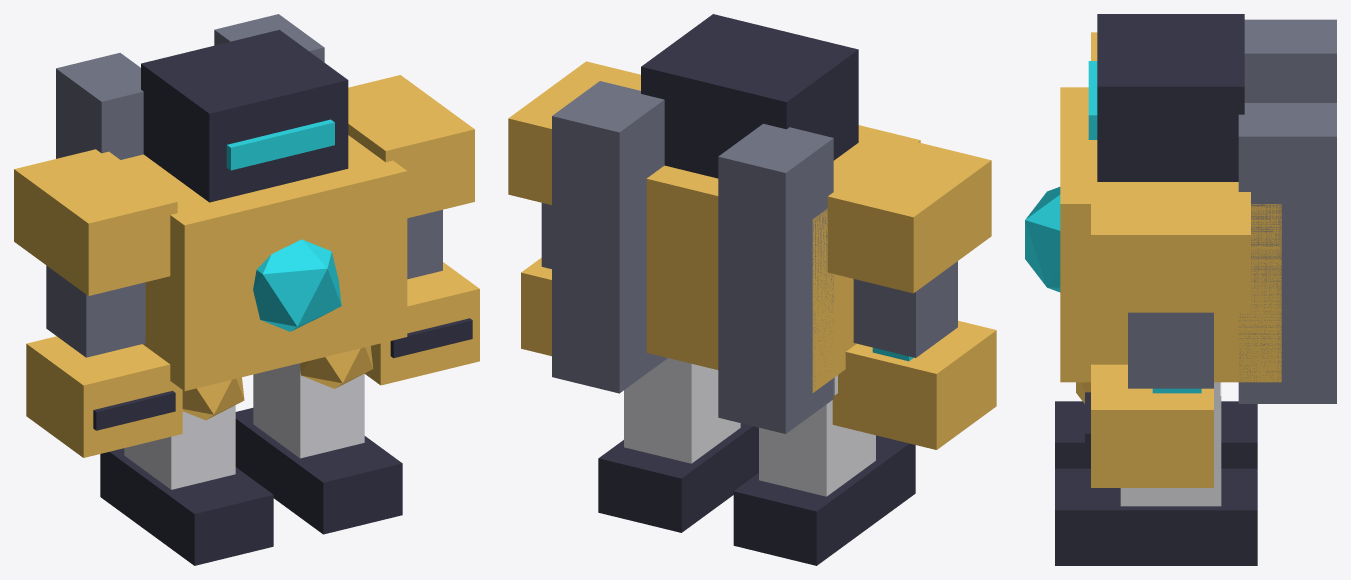
Rendered from gantry_warden.glb.
3 views of the same model, side by side, from view 1: azimuth 30°, elevation 25°; view 2: azimuth 150°, elevation 25°; view 3: azimuth 270°, elevation 25° (orthographic). The views are drawn at different scales.
Visible parts, largest first — view 1: Torso, Helmet, Shoulder, Hammer, Foot_-1, Foot_1, Shoulder.001, CargoPack, Shin_1, Hammer.001, UpperArm, Core (+8 smaller); view 2: CargoPack, CargoPack.001, Helmet, Torso, Shoulder, Hammer, Foot_-1, Foot_1, Shin_1, Shin_-1, UpperArm, Shoulder.001 (+2 smaller); view 3: Helmet, CargoPack.001, Torso, Shoulder.001, Foot_1, Hammer.001, CargoPack, UpperArm.001, Foot_-1, Core, Shin_1, Visor.
Boxes of the visible parts, x1,y1,x2,y2 form: Torso: (121,135,407,391); Helmet: (141,30,348,202); Shoulder: (14,149,177,295); Hammer: (26,336,182,457); Foot_-1: (100,448,273,565); Foot_1: (235,408,402,534); Shoulder.001: (348,75,474,218); CargoPack: (56,53,143,159); Shin_1: (253,363,364,458); Hammer.001: (364,262,479,385); UpperArm: (46,265,145,357); Core: (253,239,341,331); CargoPack: (718,123,833,433); CargoPack.001: (552,81,667,393); Helmet: (641,14,858,178); Torso: (646,125,920,392); Shoulder: (827,137,991,293); Hammer: (832,320,996,449); Foot_-1: (733,435,915,565); Foot_1: (598,423,758,532); Shin_1: (624,358,740,463); Shin_-1: (759,400,875,496); UpperArm: (853,261,957,357); Shoulder.001: (508,61,640,204); Helmet: (1097,14,1244,181); CargoPack.001: (1238,103,1336,403); Torso: (1060,87,1281,382); Shoulder.001: (1091,188,1250,312); Foot_1: (1055,468,1257,565); Hammer.001: (1091,364,1213,487); CargoPack: (1244,19,1336,102); UpperArm.001: (1128,312,1213,388); Foot_-1: (1055,401,1257,468); Core: (1025,187,1060,292); Shin_1: (1120,382,1221,506); Visor: (1088,61,1097,139).
Bounding box in the file's own units: 4 × 4.14 × 2.54.
